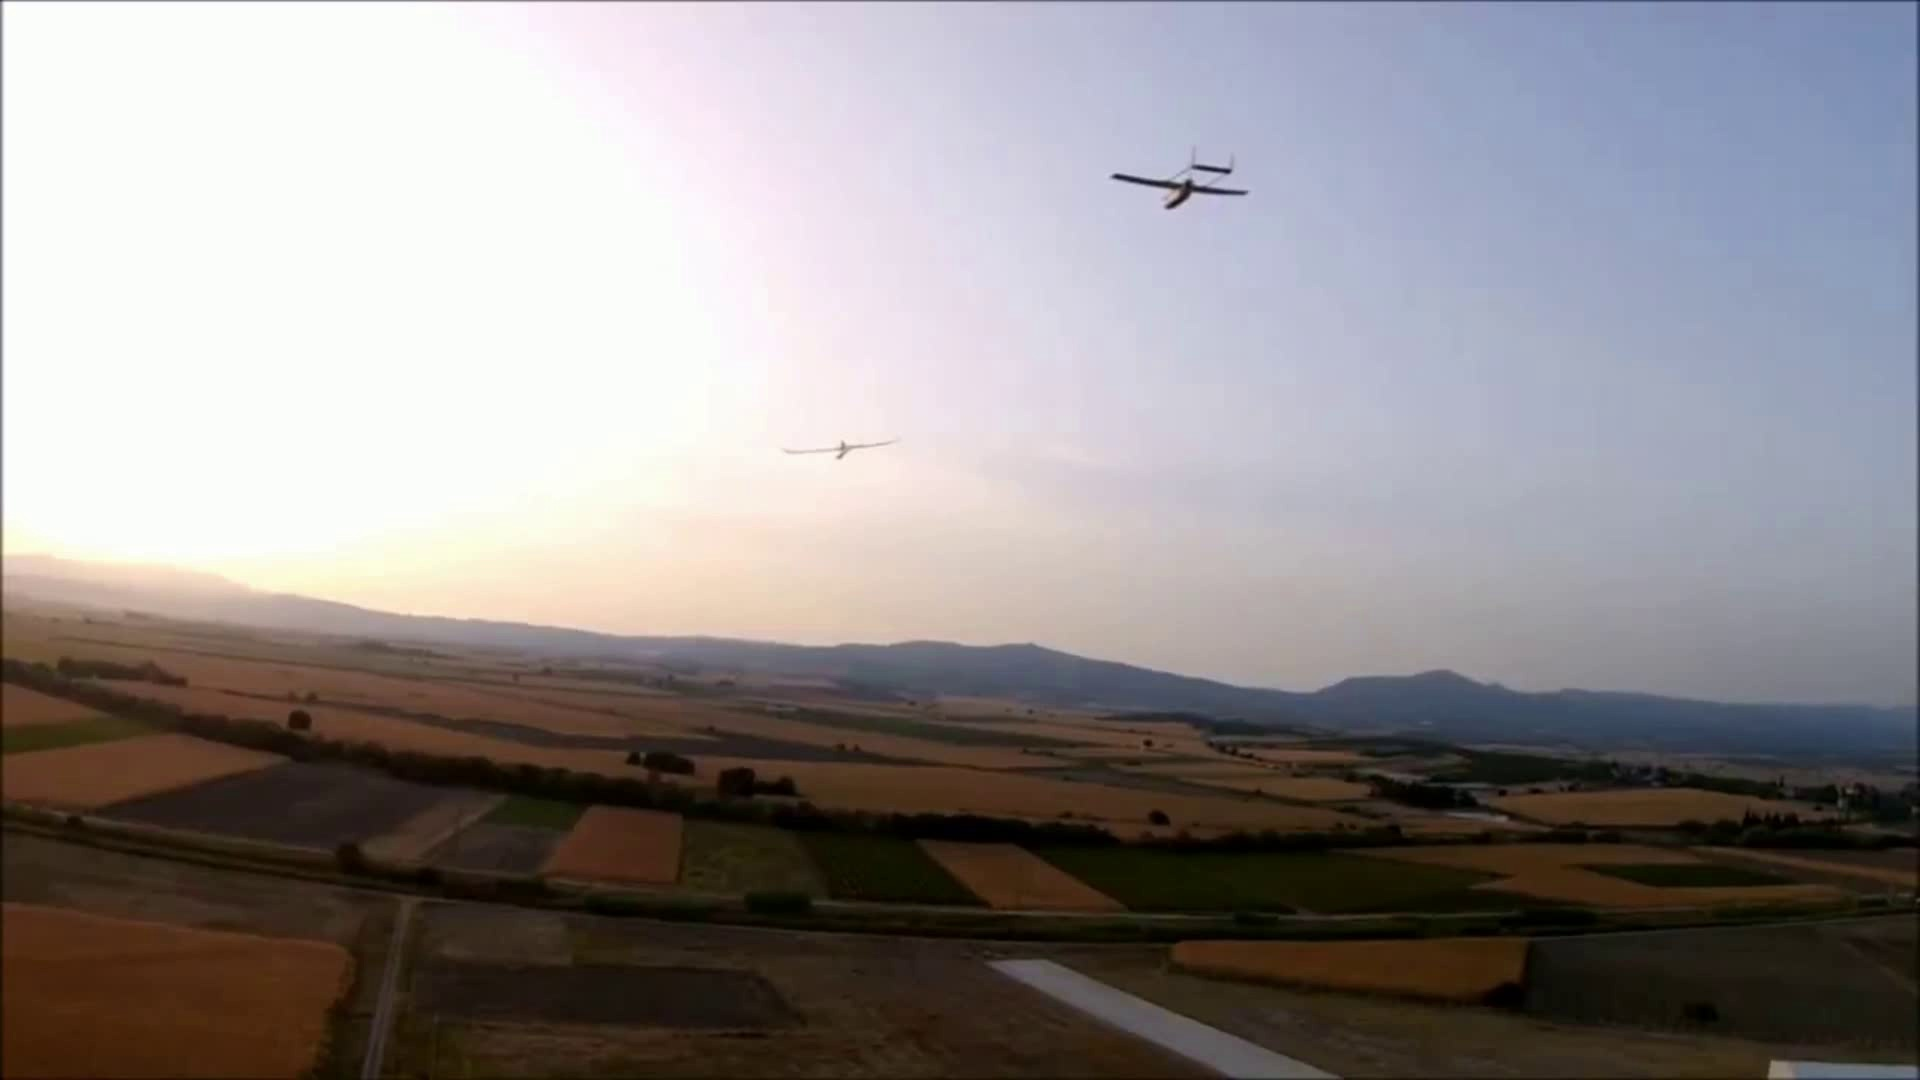airplane: (1109, 152, 1247, 208), (779, 436, 905, 459)
